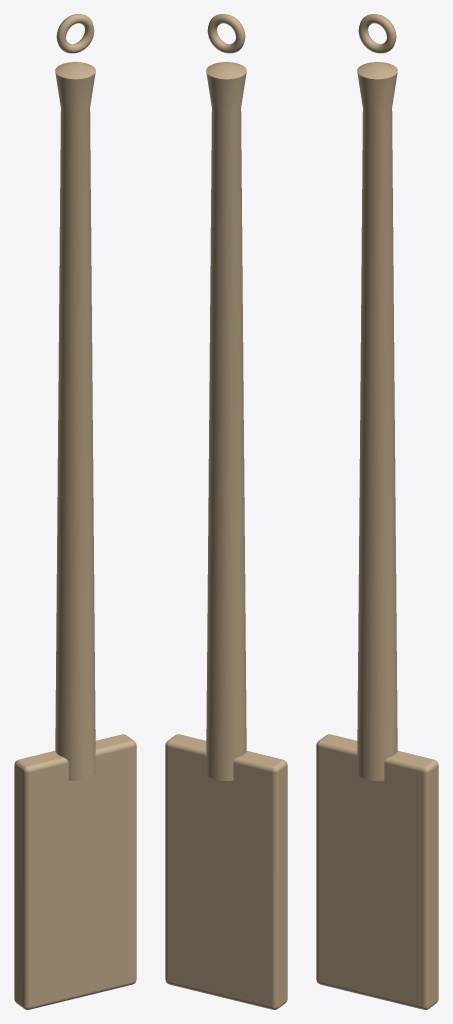
File: textile-weaving-and-dye-workshop-dye-stirring-paddle-3755d2cc__29564.glb
3 views of the same model, side by side, from view 1: azimuth 30°, elevation 25°; view 2: azimuth 150°, elevation 25°; view 3: azimuth 330°, elevation 25° (orthographic).
Parts seen in each view (by area): view 1: dye-stirring-paddle; view 2: dye-stirring-paddle; view 3: dye-stirring-paddle.
Boxes of the visible parts, bbox=[...] form: dye-stirring-paddle: bbox=[14, 14, 136, 1009]; dye-stirring-paddle: bbox=[165, 14, 287, 1009]; dye-stirring-paddle: bbox=[316, 14, 438, 1009].
Bounding box in the file's own units: 0.1599 × 1.33 × 0.05.
